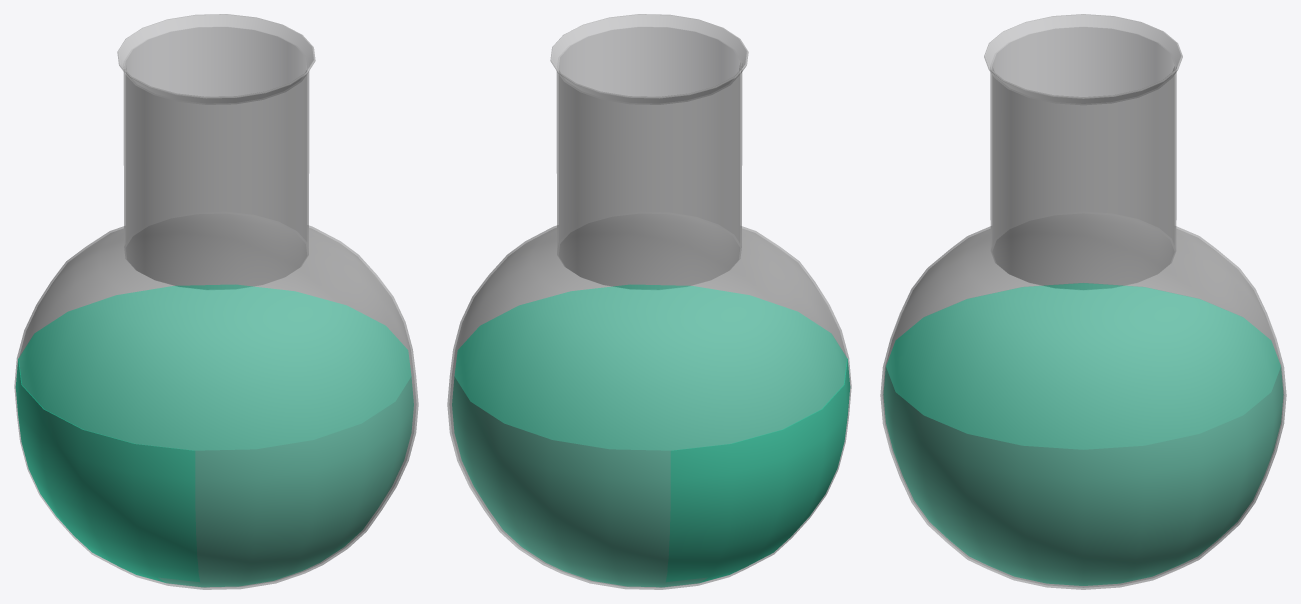
File: Potion_004.fbx
The picture shows the model from 3 angles, left to right: view 1: azimuth 30°, elevation 25°; view 2: azimuth 150°, elevation 25°; view 3: azimuth 270°, elevation 25°; orthographic projection.
Visible parts, largest first — view 1: pSphere8, polySurface1; view 2: pSphere8, polySurface1; view 3: pSphere8, polySurface1.
Boxes of the visible parts, x1,y1,x2,y2 form: pSphere8: [14, 14, 418, 589]; polySurface1: [15, 284, 413, 586]; pSphere8: [447, 14, 851, 589]; polySurface1: [452, 284, 850, 586]; pSphere8: [880, 14, 1286, 589]; polySurface1: [883, 283, 1283, 585].
Bounding box in the file's own units: 0.3961 × 0.5321 × 0.3961.
